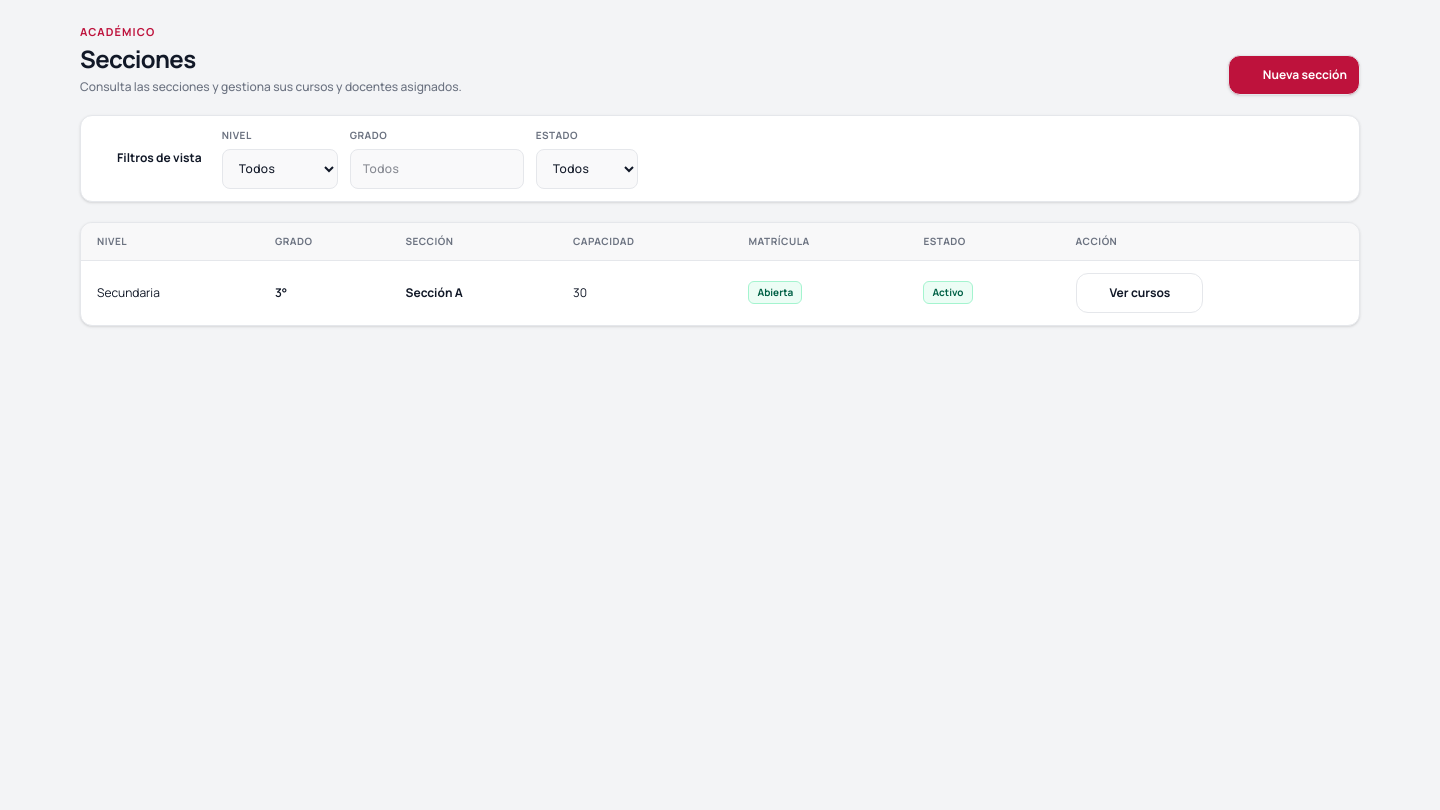
create modal preselects the current period, disables inactive ones and reloads the list
Click the button "Nueva sección". click: {"x": 1294, "y": 74}
box: [1228, 54, 1360, 94]
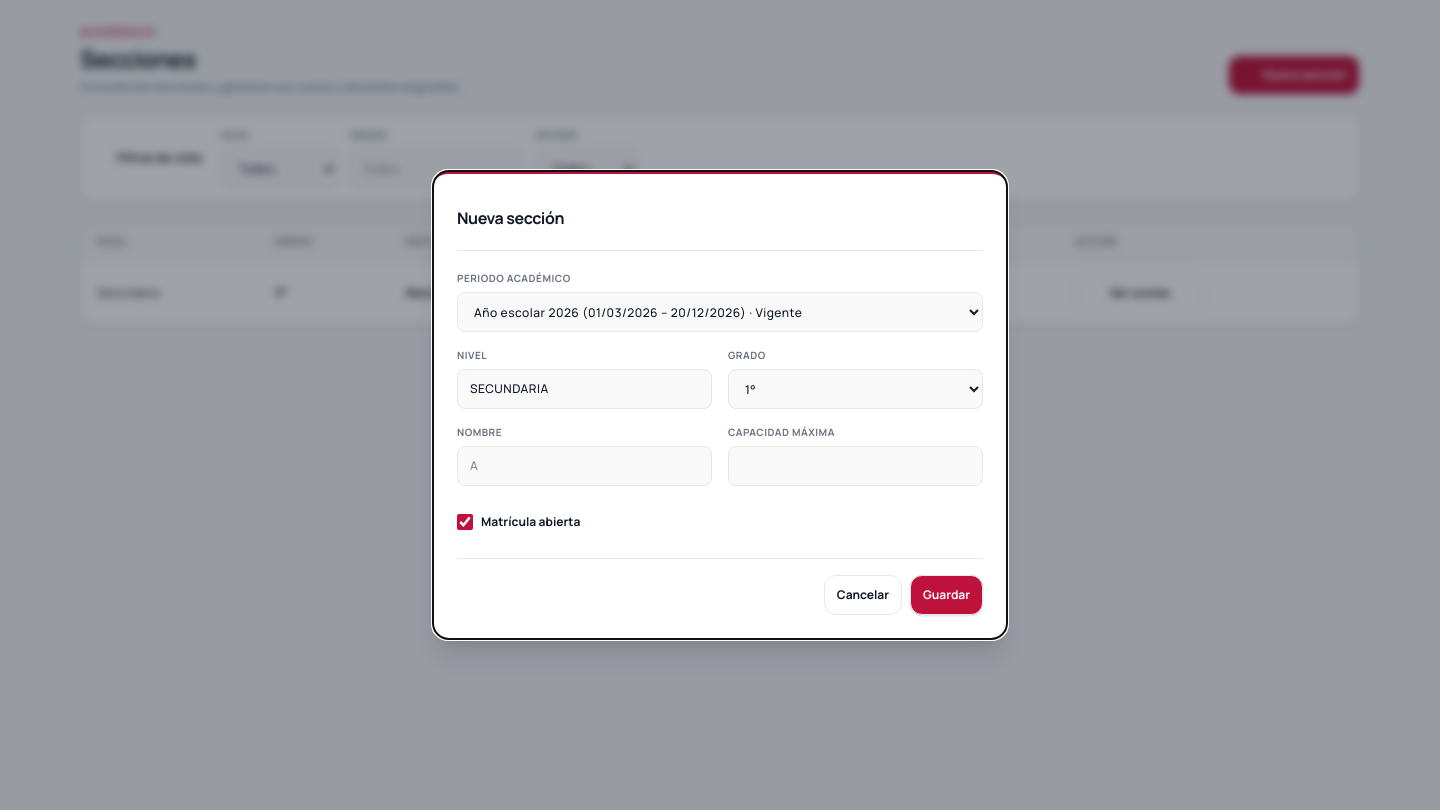
Check: the text "Secundaria" is shown, box [81, 260, 259, 325]
Submit the form, box [457, 271, 983, 615]
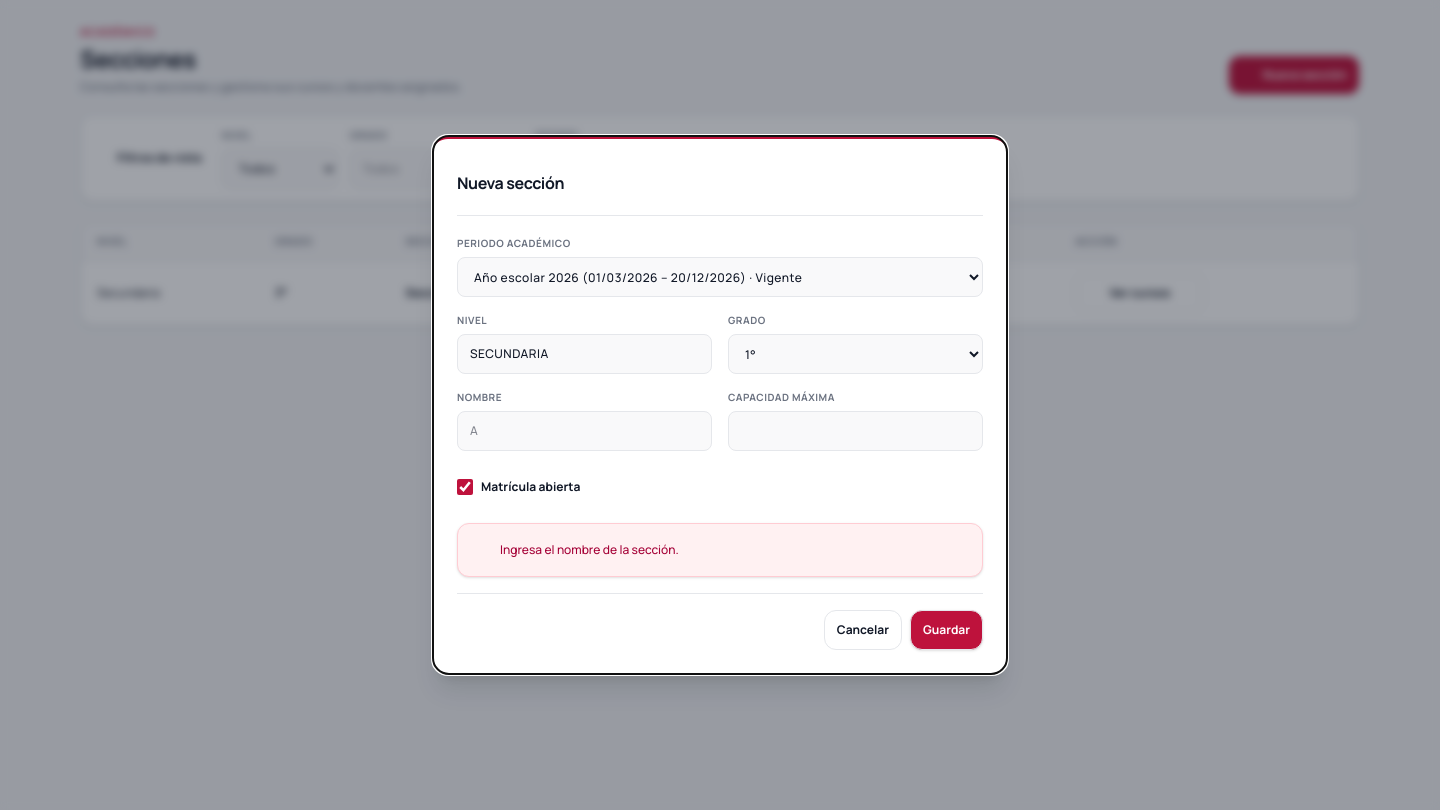
Check: the text "Ingresa el nombre" is shown, box [500, 541, 679, 558]
Click the dropdown labelled "Grado". click: {"x": 856, "y": 354}
box: [728, 334, 983, 374]
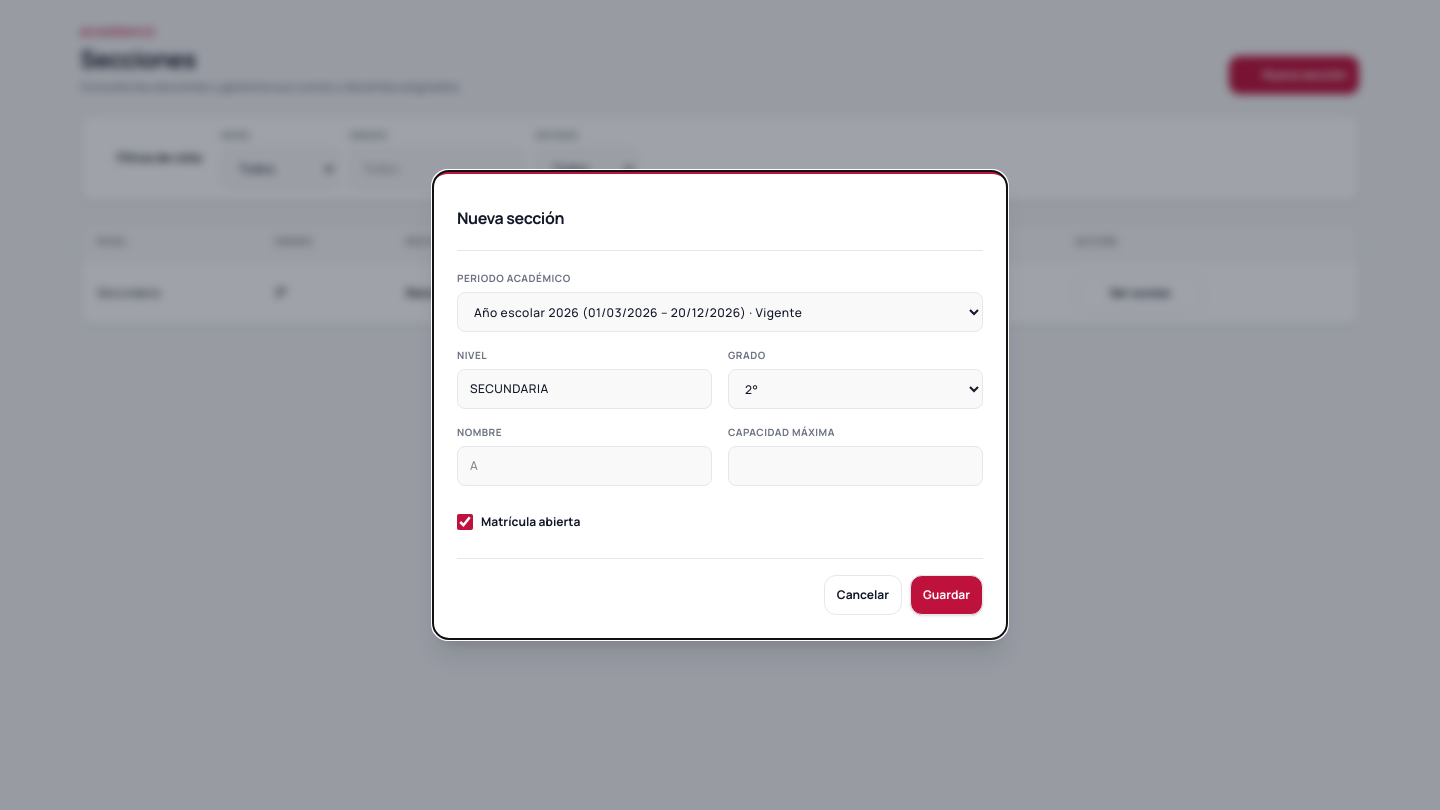
Click the field labelled "Nombre". click: {"x": 584, "y": 466}
box: [457, 446, 712, 486]
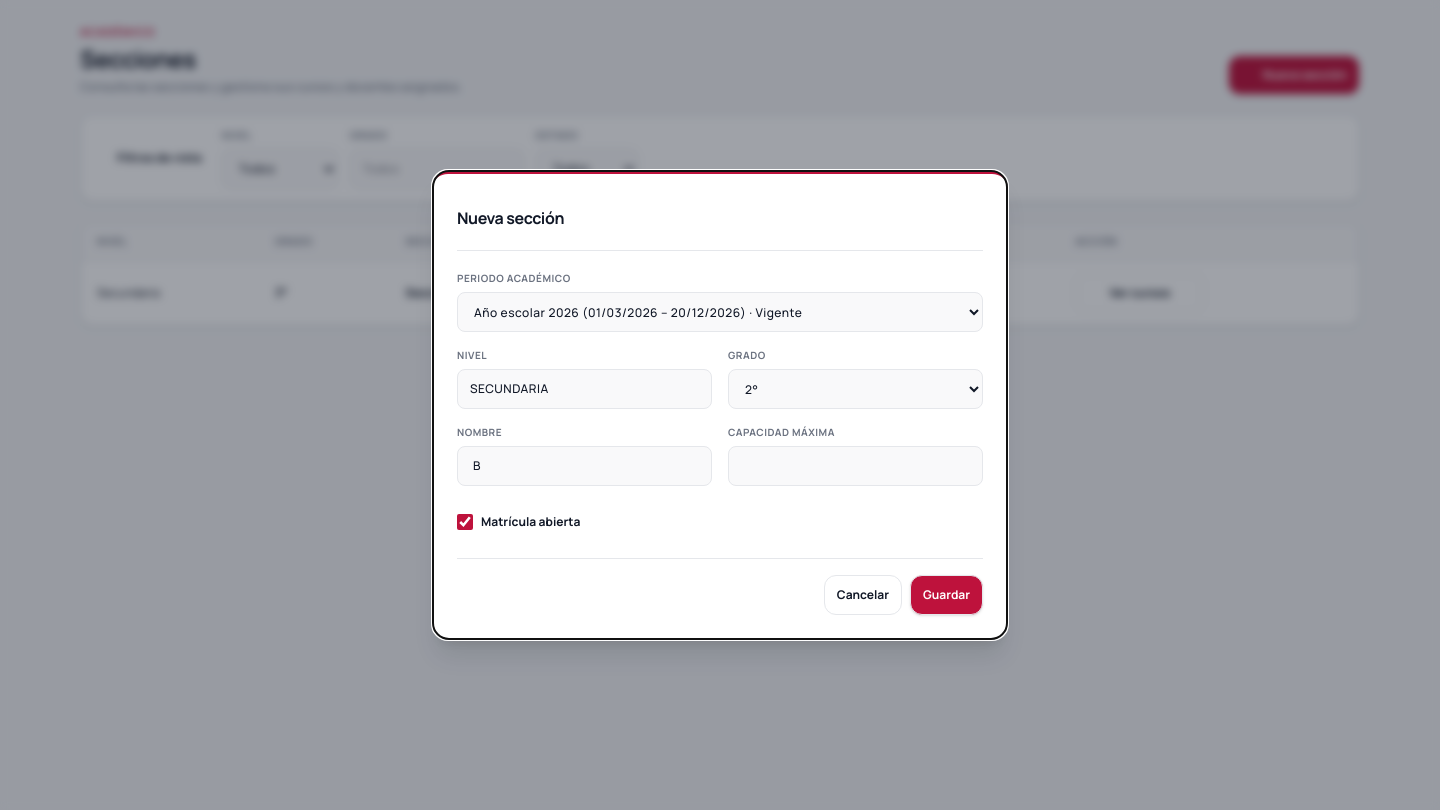
Click the number field labelled "Capacidad máxima". click: {"x": 856, "y": 466}
box: [728, 446, 983, 486]
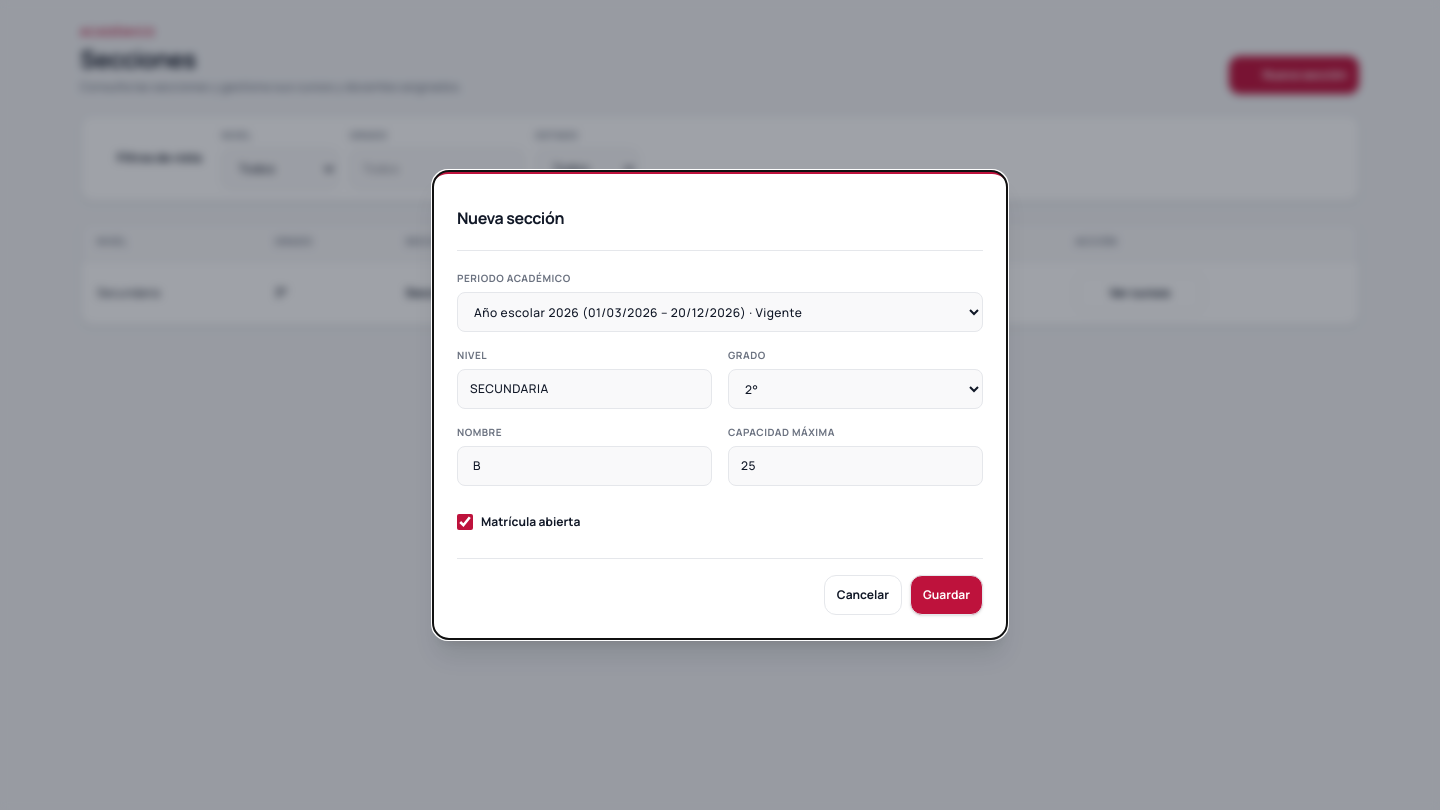
Submit the form, box [457, 271, 983, 615]
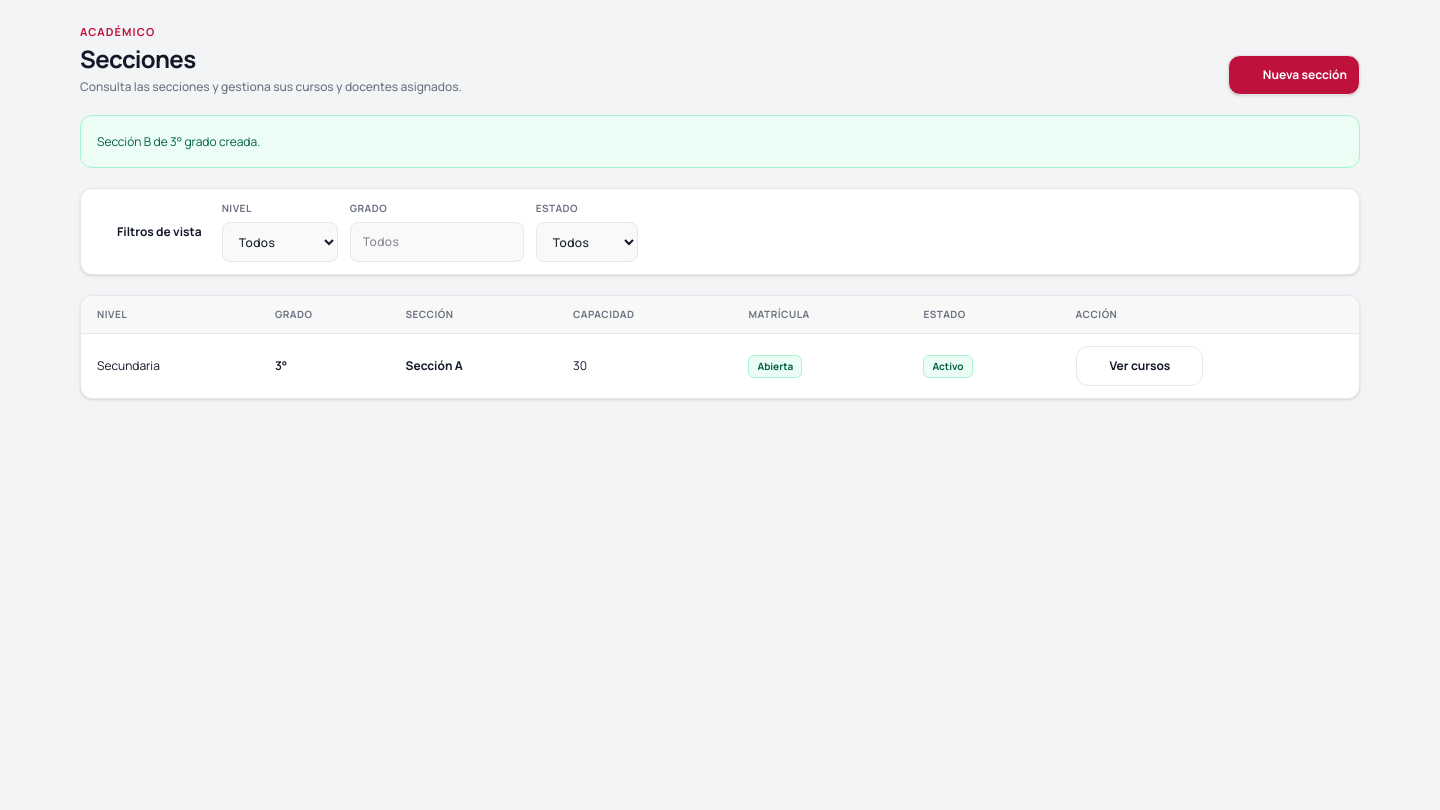
Check: the text "Sección B de 3° grado creada" is shown, box [97, 132, 260, 150]
